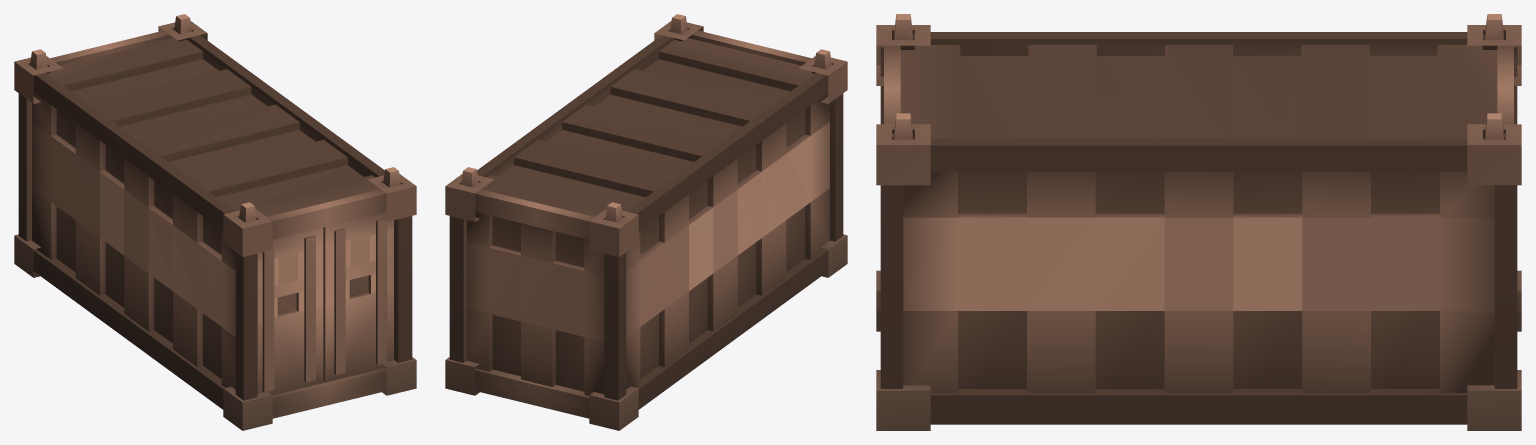
The model's file is box_rust.glb.
The picture shows the model from 3 angles, left to right: view 1: azimuth 30°, elevation 25°; view 2: azimuth 150°, elevation 25°; view 3: azimuth 270°, elevation 25°; orthographic projection. The views are drawn at different scales.
Visible parts, largest first — view 1: box_rust; view 2: box_rust; view 3: box_rust.
Part boxes in pixels (x1,y1,x2,y2): box_rust: (14, 14, 416, 430); box_rust: (445, 14, 847, 430); box_rust: (876, 14, 1521, 430).
Size of the model in its own units: 2.38 by 2.81 by 5.4.
